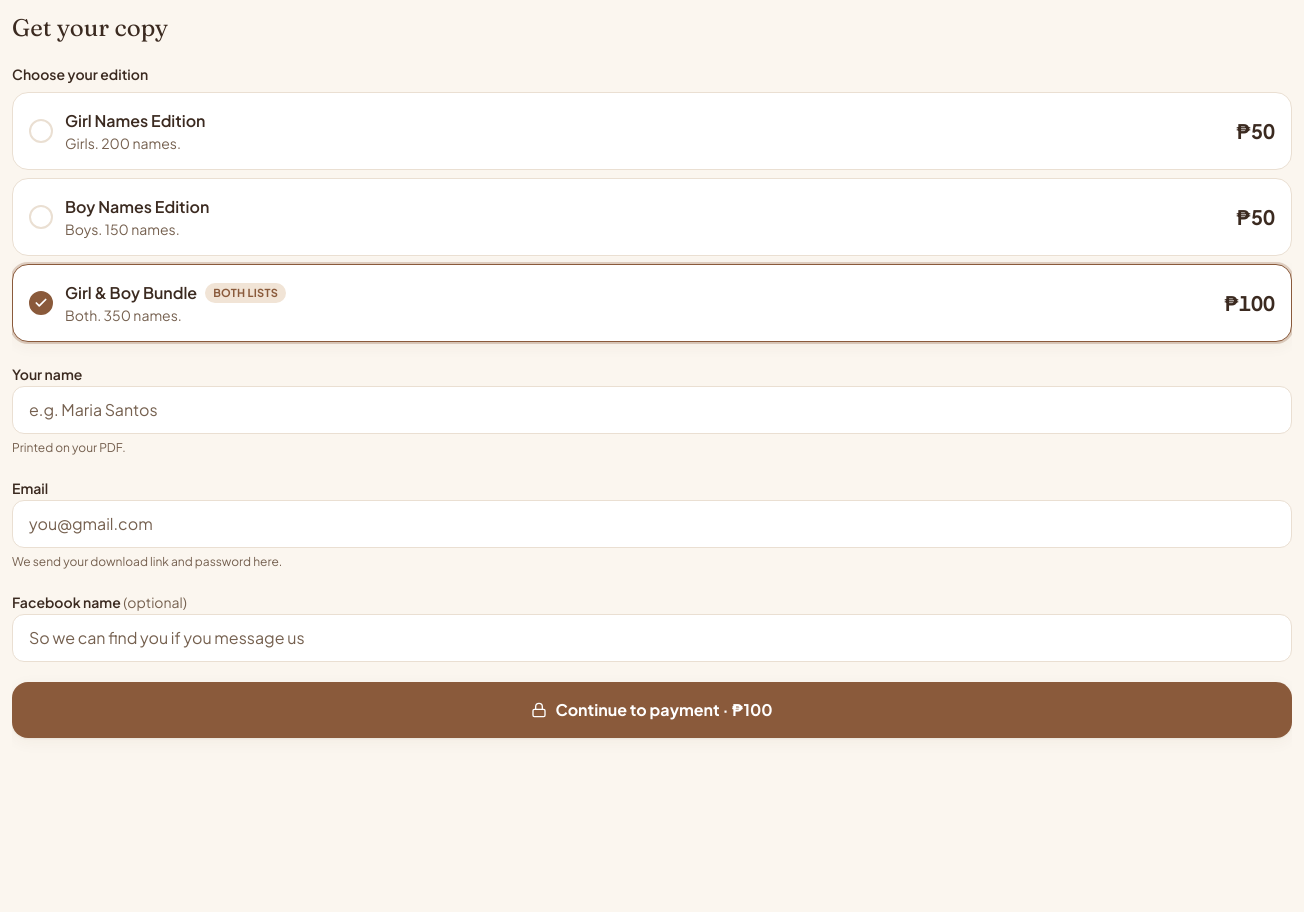
it: OrderForm › shows the server's error and marks the field
Click the button "Continue to payment · ₱100" at (652, 710), box [12,682,1292,738]
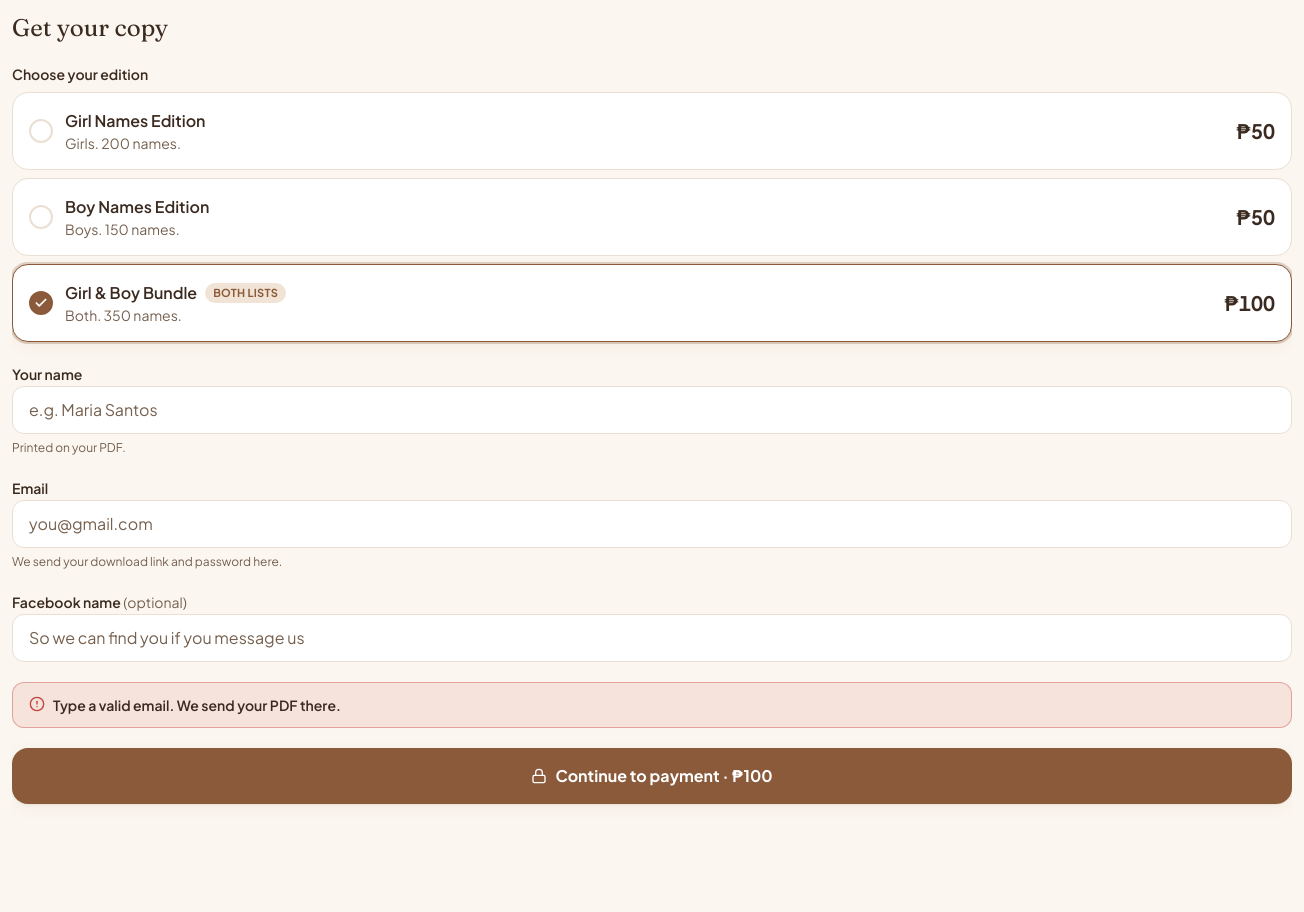
expect the text "Type a valid email. We send your PDF there." is shown: met, box [12,682,1292,728]
